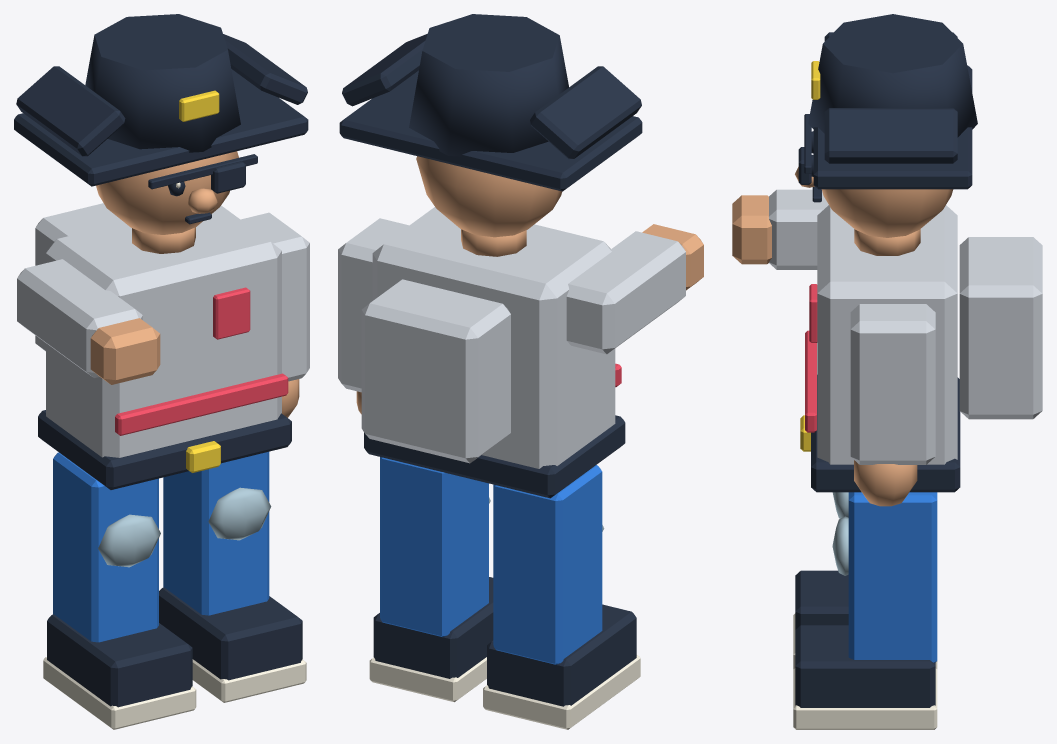
File: fps_char_2.glb
The picture shows the model from 3 angles, left to right: view 1: azimuth 30°, elevation 25°; view 2: azimuth 150°, elevation 25°; view 3: azimuth 270°, elevation 25°; orthographic projection. The views are drawn at different scales.
Visible parts, largest first — view 1: detail_Ink navy, detail_Paint, detail_Blueberry, detail_Vanilla plastic, detail_Coral, head_core, detail_Toy silver, right_hand, detail_Warm vinyl, detail_Lemon; view 2: detail_Paint, detail_Ink navy, detail_Blueberry, head_core, detail_Vanilla plastic, detail_Warm vinyl, right_hand; view 3: detail_Paint, detail_Ink navy, detail_Blueberry, head_core, detail_Vanilla plastic, detail_Warm vinyl, right_hand, detail_Coral, detail_Toy silver, detail_Lemon.
Boxes of the visible parts, bbox=[...] form: detail_Ink navy: bbox=[14, 14, 308, 707]; detail_Paint: bbox=[17, 203, 309, 457]; detail_Blueberry: bbox=[53, 451, 269, 642]; detail_Vanilla plastic: bbox=[43, 182, 306, 729]; detail_Coral: bbox=[115, 287, 288, 435]; head_core: bbox=[96, 151, 238, 234]; detail_Toy silver: bbox=[98, 487, 271, 567]; right_hand: bbox=[90, 318, 160, 384]; detail_Warm vinyl: bbox=[132, 188, 299, 417]; detail_Lemon: bbox=[179, 90, 220, 472]; detail_Paint: bbox=[338, 207, 685, 468]; detail_Ink navy: bbox=[339, 14, 642, 706]; detail_Blueberry: bbox=[380, 457, 602, 664]; head_core: bbox=[416, 156, 561, 237]; detail_Vanilla plastic: bbox=[369, 655, 640, 729]; detail_Warm vinyl: bbox=[356, 229, 526, 414]; right_hand: bbox=[642, 224, 703, 290]; detail_Paint: bbox=[769, 189, 1042, 464]; detail_Ink navy: bbox=[795, 14, 977, 707]; detail_Blueberry: bbox=[848, 492, 937, 662]; head_core: bbox=[821, 189, 953, 237]; detail_Vanilla plastic: bbox=[793, 613, 937, 729]; detail_Warm vinyl: bbox=[795, 167, 920, 506]; right_hand: bbox=[732, 195, 771, 264]; detail_Coral: bbox=[805, 284, 817, 432]; detail_Toy silver: bbox=[832, 492, 848, 575]; detail_Lemon: bbox=[800, 61, 820, 451].
Bounding box in the file's own units: 0.84 × 1.91 × 0.84.
